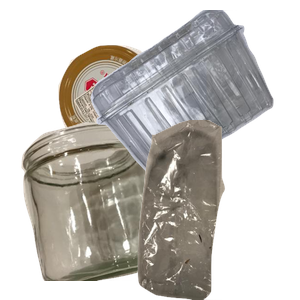glass: (19, 120, 184, 300)
metal: (56, 43, 211, 187)
plastic: (88, 10, 300, 180)
trash: (114, 120, 300, 300)
